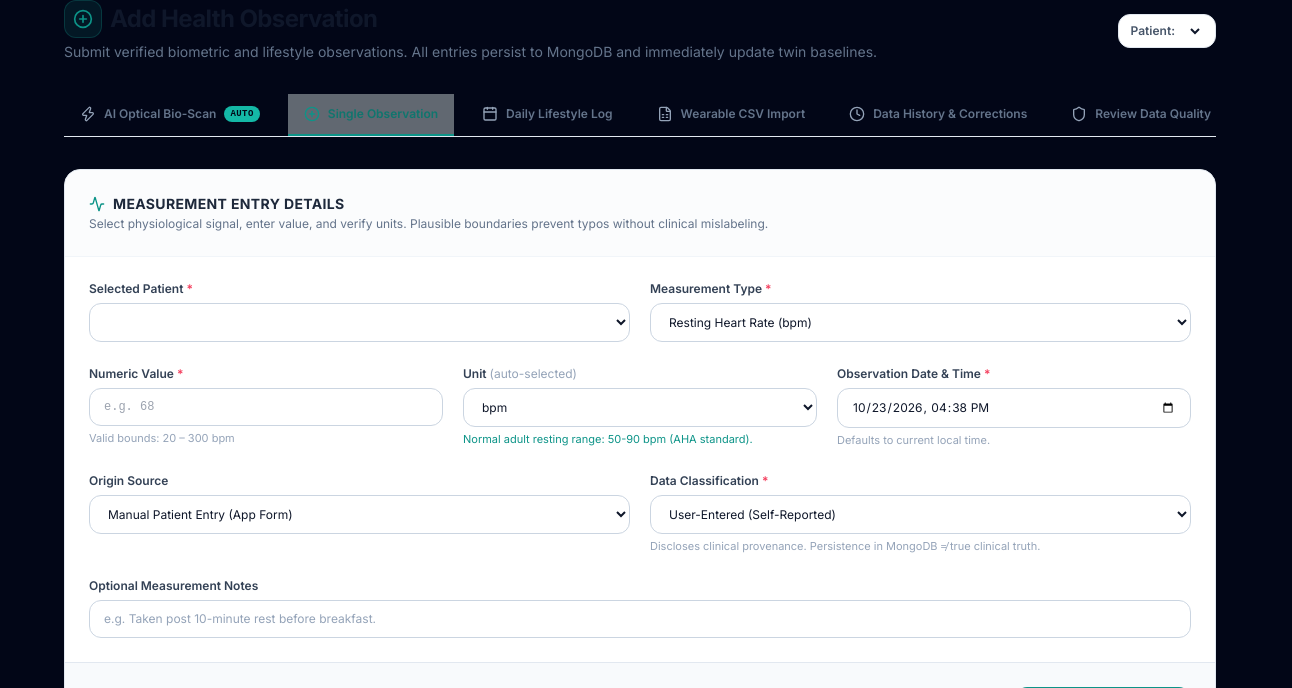
AddObservationPage Component › supports explicit unit selection including mmol/L and kPa with conversion guidance
// Select Fasting Blood Glucose
Step 1. Select "Fasting Blood Glucose (mg/dL)" in the dropdown labelled "Measurement Type *" → (920, 322), box [650, 303, 1191, 342]
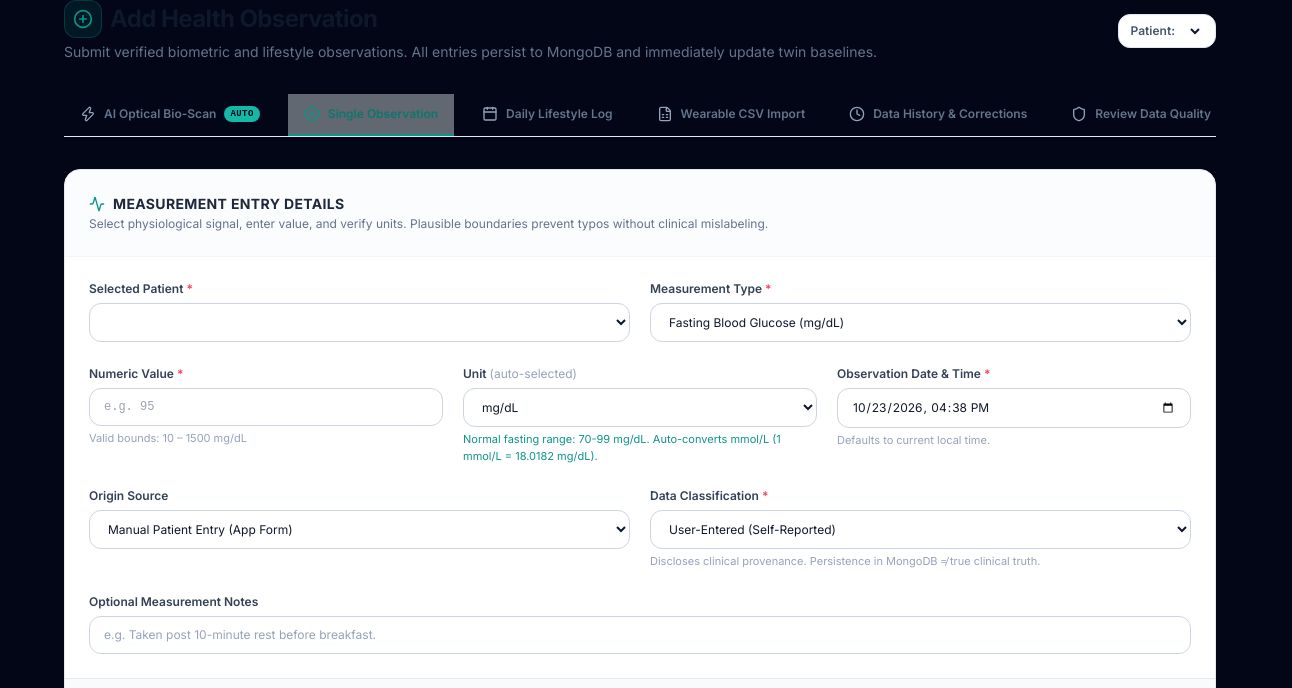
expect the dropdown labelled "Unit (auto-selected)" is shown: met, box [463, 388, 817, 427]
expect the text "Auto-converts mmol/L" is shown: met, box [463, 432, 781, 462]
// Select Systolic Blood Pressure
Step 2. Select "Systolic Blood Pressure (mmHg)" in the dropdown labelled "Measurement Type *" → (920, 322), box [650, 303, 1191, 342]
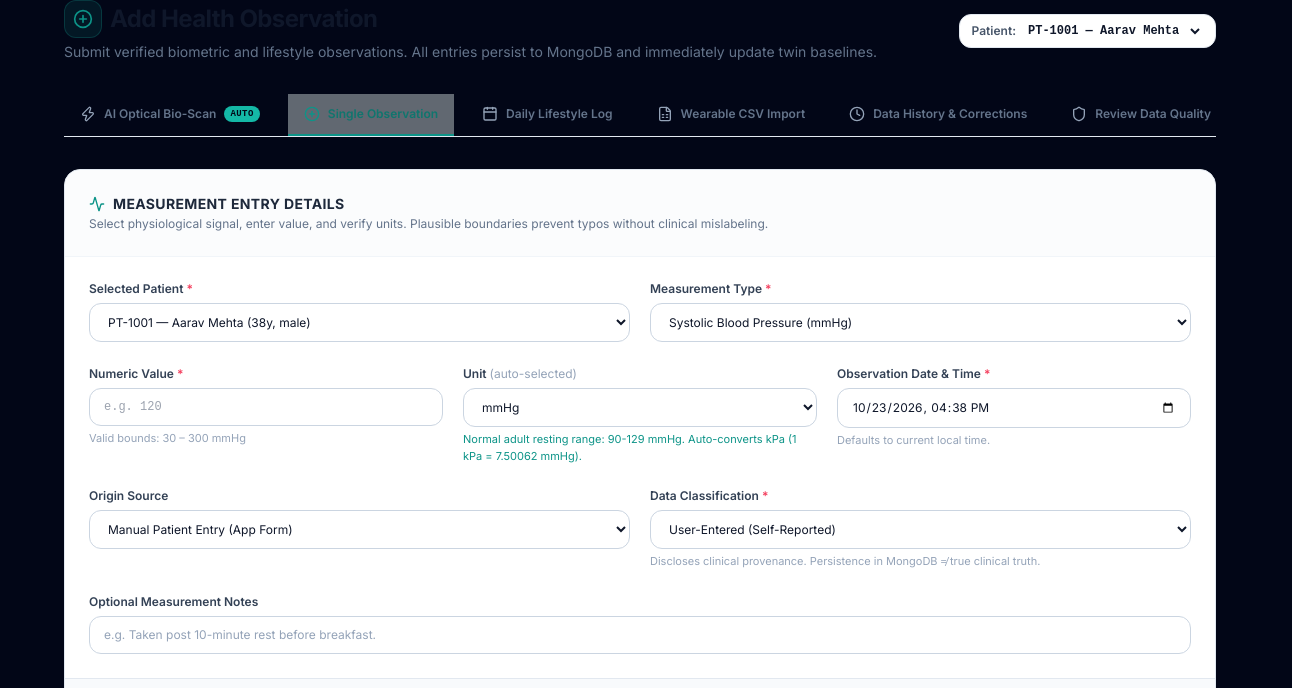
expect the text "Auto-converts kPa" is shown: met, box [463, 432, 796, 462]
